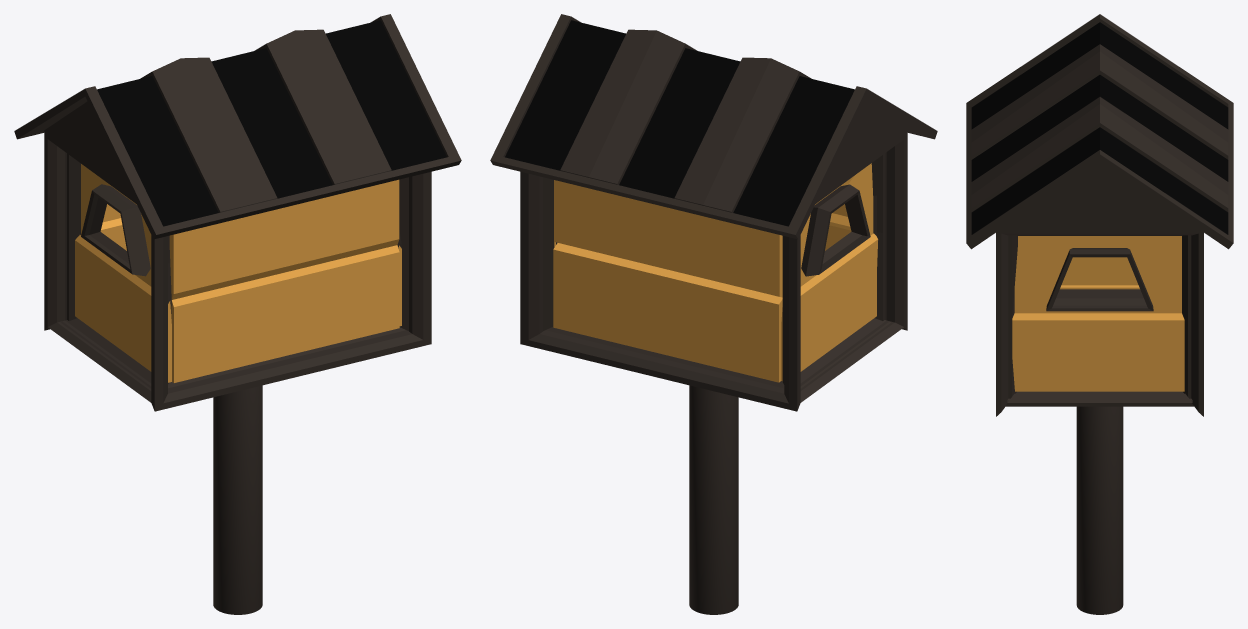
The model's file is Beehive.fbx.
3 views of the same model, side by side, from view 1: azimuth 30°, elevation 25°; view 2: azimuth 150°, elevation 25°; view 3: azimuth 270°, elevation 25° (orthographic). The views are drawn at different scales.
Visible parts, largest first — view 1: Cube, Cube.001, Cylinder; view 2: Cube, Cube.001, Cylinder; view 3: Cube, Cube.001, Cylinder.
Boxes of the visible parts, x1,y1,x2,y2 form: Cube: [44, 101, 431, 411]; Cube.001: [14, 14, 461, 239]; Cylinder: [213, 385, 262, 614]; Cube: [520, 101, 907, 411]; Cube.001: [490, 14, 937, 239]; Cylinder: [689, 385, 738, 614]; Cube: [996, 162, 1203, 416]; Cube.001: [966, 14, 1233, 249]; Cylinder: [1076, 406, 1123, 614].
Size of the model in its own units: 233 by 409 by 188.
